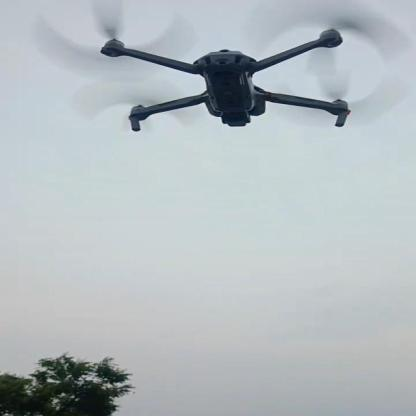plane: (90, 18, 381, 137)
